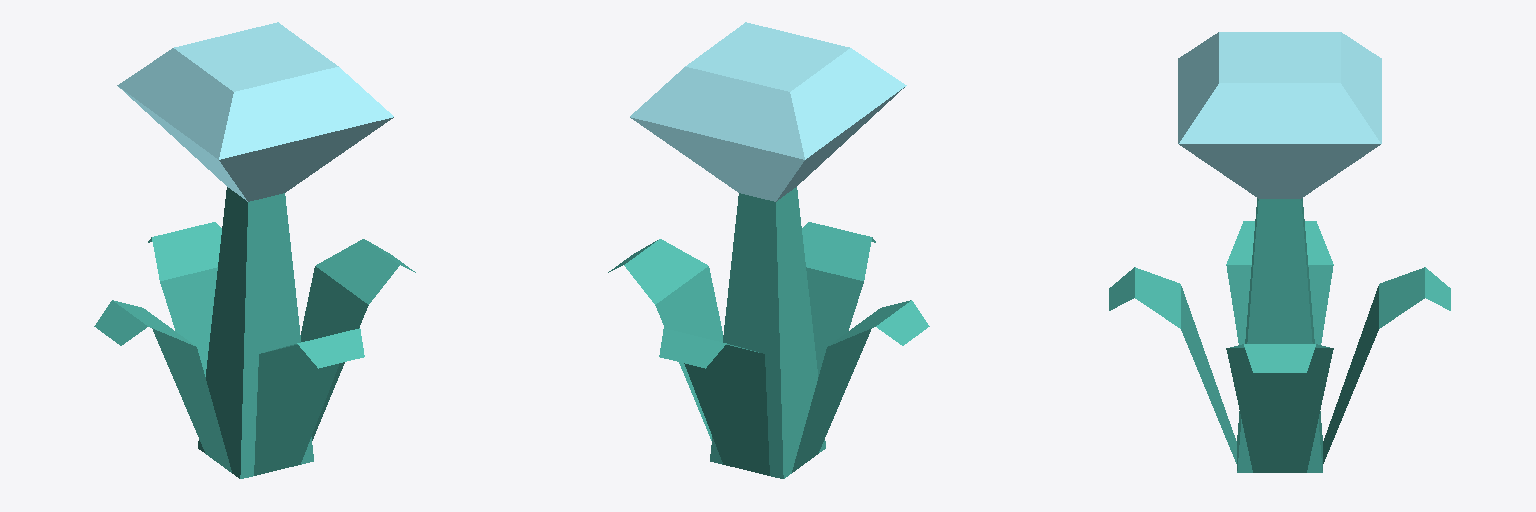
The model's file is flower_blue2.obj.
3 views of the same model, side by side, from view 1: azimuth 30°, elevation 25°; view 2: azimuth 150°, elevation 25°; view 3: azimuth 270°, elevation 25° (orthographic).
Visible parts, largest first — view 1: flower_blue2; view 2: flower_blue2; view 3: flower_blue2.
Boxes of the visible parts, box(x1,y1,x2,y2) form: flower_blue2: box(94, 22, 415, 478); flower_blue2: box(608, 22, 929, 478); flower_blue2: box(1109, 32, 1450, 472).
Size of the model in its own units: 1.71 by 2.2 by 1.71.